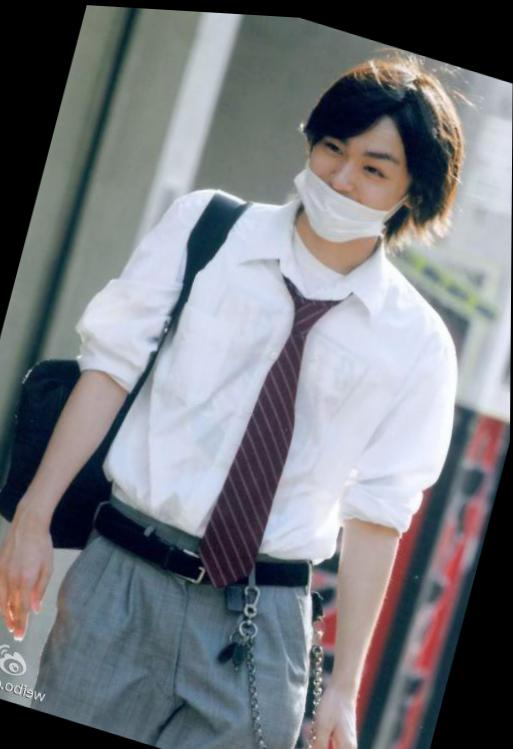WRONG: (287, 109, 415, 253)
